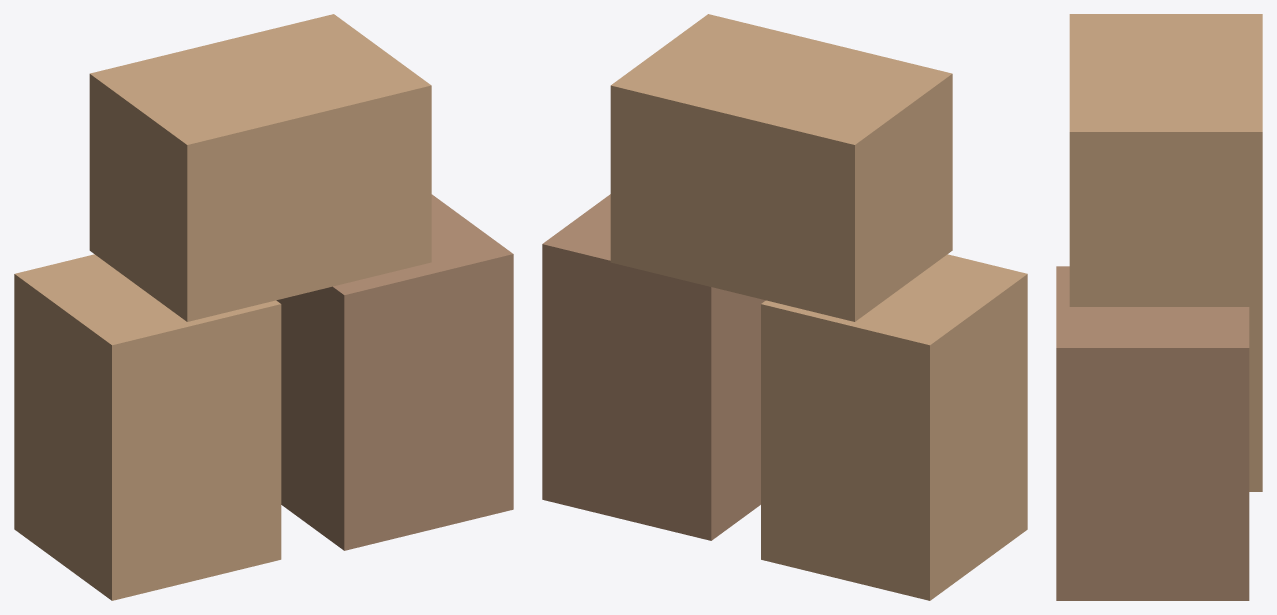
The model's file is barrel-stack.glb.
The picture shows the model from 3 angles, left to right: view 1: azimuth 30°, elevation 25°; view 2: azimuth 150°, elevation 25°; view 3: azimuth 270°, elevation 25°; orthographic projection.
Visible parts, largest first — view 1: barrel-top, barrel-left, barrel-right; view 2: barrel-top, barrel-left, barrel-right; view 3: barrel-right, barrel-top, barrel-left.
Boxes of the visible parts, x1,y1,x2,y2 form: barrel-top: (89, 14, 431, 321); barrel-left: (14, 254, 281, 600); barrel-right: (276, 194, 513, 550); barrel-top: (610, 14, 952, 321); barrel-left: (761, 254, 1027, 600); barrel-right: (542, 194, 765, 540); barrel-right: (1056, 266, 1249, 600); barrel-top: (1069, 14, 1262, 306); barrel-left: (1249, 307, 1262, 491).
Size of the model in its own units: 1.68 by 1.78 by 0.77.
